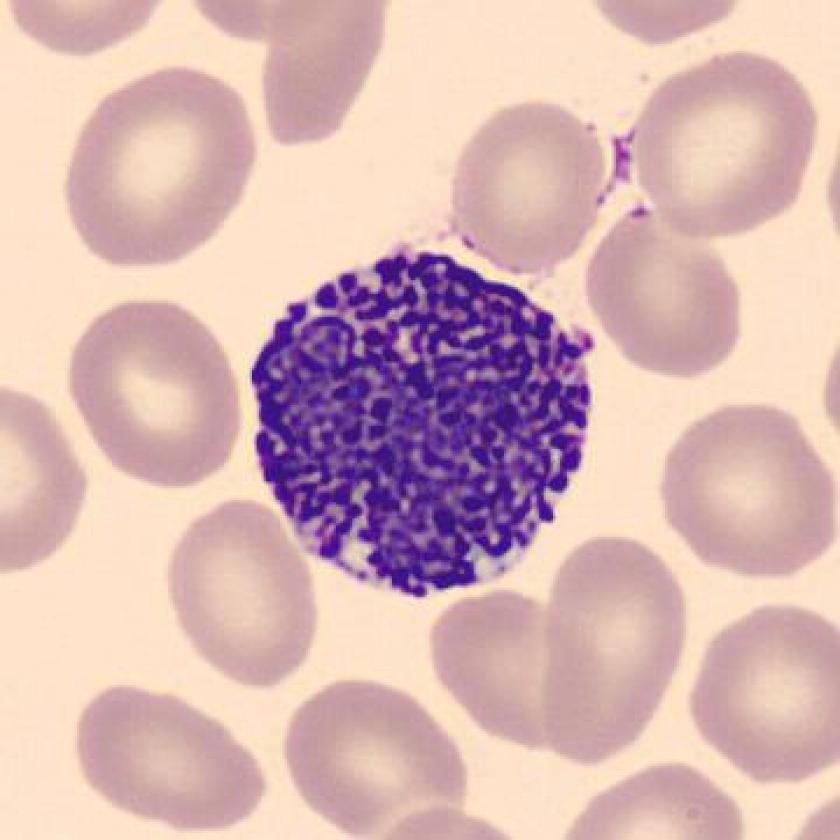basophil: (234, 240, 608, 601)
